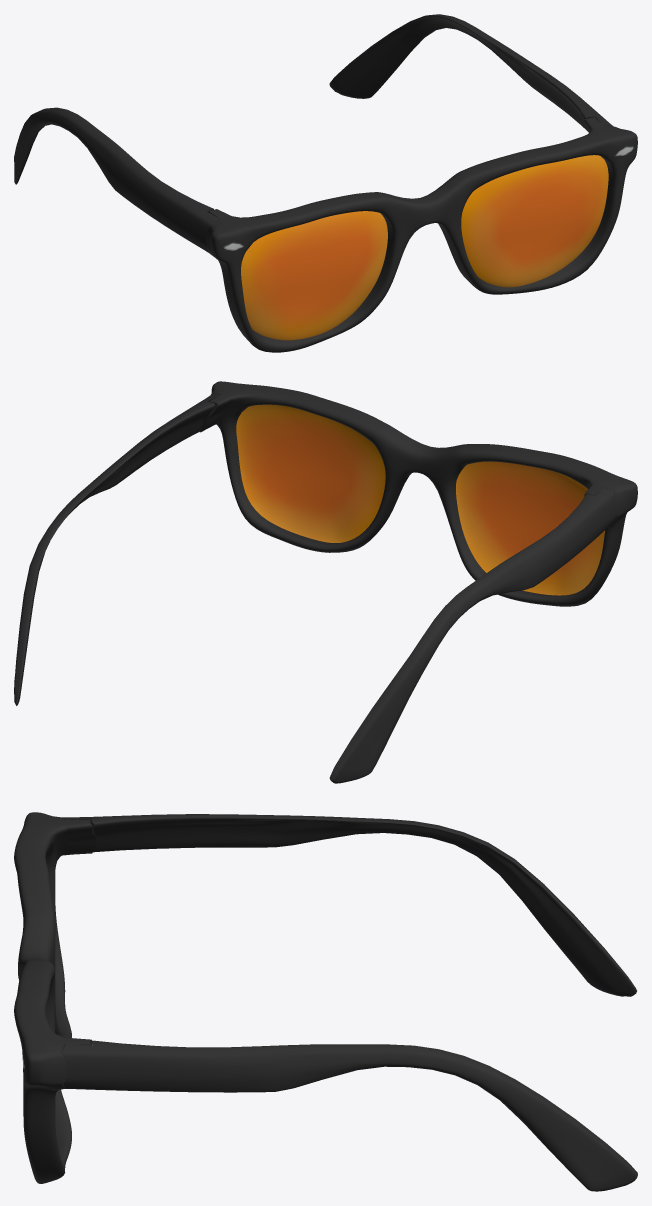
File: new spec (1).fbx
3 renders of one model, top to bottom at view 1: azimuth 30°, elevation 25°; view 2: azimuth 150°, elevation 25°; view 3: azimuth 270°, elevation 25°, orthographic. The views are drawn at different scales.
Parts seen in each view (by area): view 1: glass4, front1, side2, side1; view 2: glass4, front1, side2, side1; view 3: side1, front1, side2.
Boxes of the visible parts, <box> form: glass4: <box>241,155,608,340</box>; front1: <box>206,117,637,352</box>; side2: <box>14,107,219,253</box>; side1: <box>329,14,612,132</box>; glass4: <box>236,404,604,595</box>; front1: <box>200,381,637,606</box>; side2: <box>329,488,617,783</box>; side1: <box>14,393,219,705</box>; side1: <box>61,1040,637,1191</box>; front1: <box>14,812,96,1183</box>; side2: <box>61,814,636,996</box>.
Bounding box in the file's own units: 9.48 × 3.06 × 10.1.
Materials: 1 (1 with a texture image).
